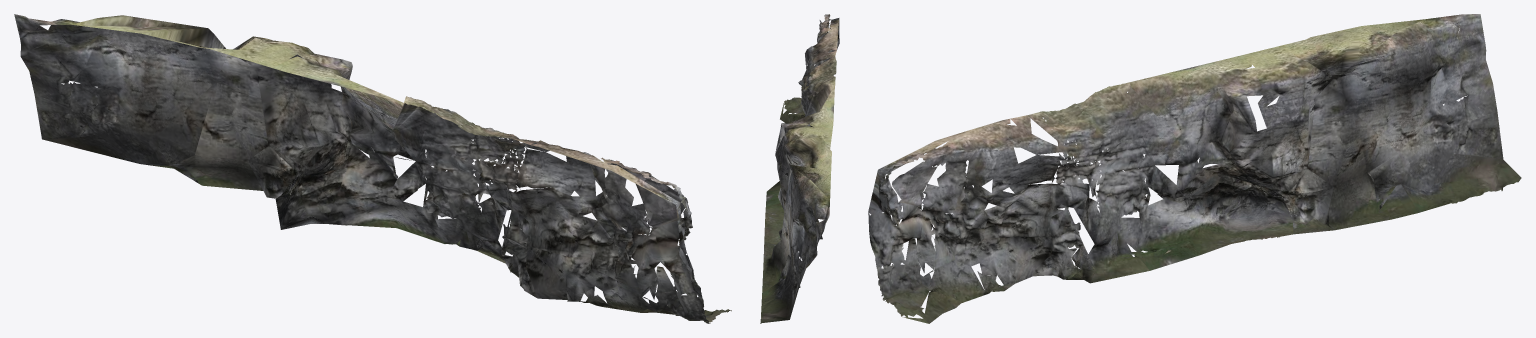
File: rock_scan.glb
3 views of the same model, side by side, from view 1: azimuth 30°, elevation 25°; view 2: azimuth 150°, elevation 25°; view 3: azimuth 270°, elevation 25° (orthographic). The views are drawn at different scales.
Parts seen in each view (by area): view 1: stranska_skala_1; view 2: stranska_skala_1; view 3: stranska_skala_1.
Part boxes in pixels (box(x1,y1,x2,y2)): stranska_skala_1: box(14, 14, 731, 323); stranska_skala_1: box(760, 14, 839, 323); stranska_skala_1: box(868, 14, 1521, 323).
Bounding box in the file's own units: 41.37 × 18.51 × 67.93.
1 material, 1 textured.
